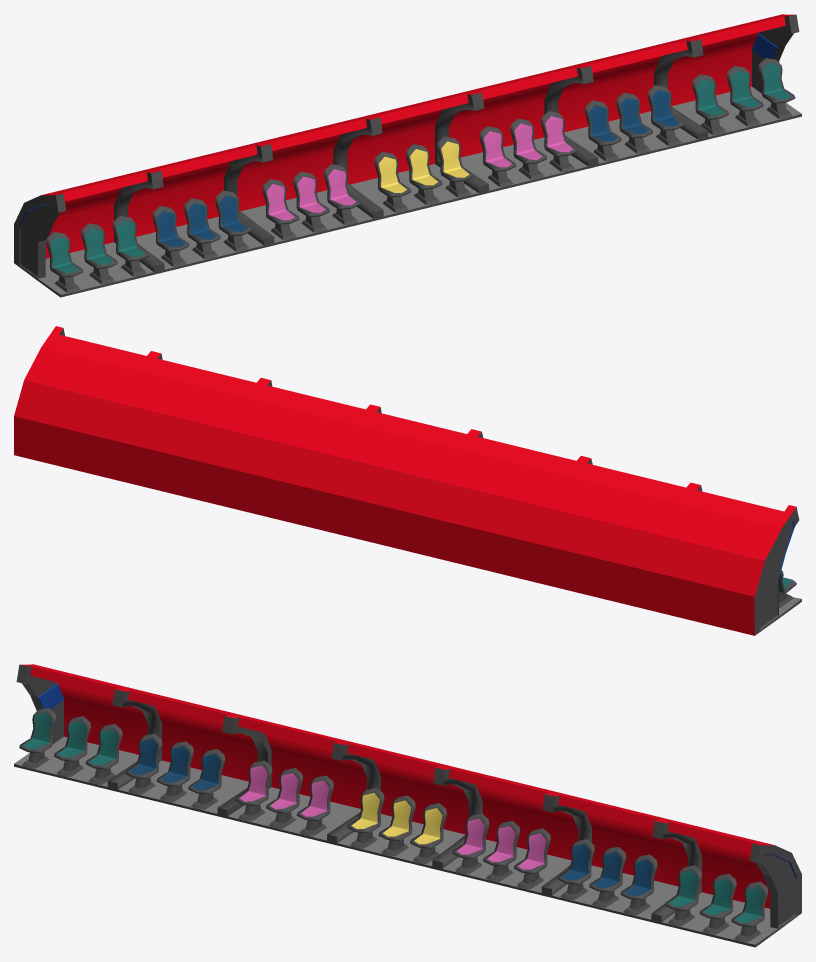
File: SM_Chair_Canopy.fbx
3 renders of one model, top to bottom at view 1: azimuth 30°, elevation 25°; view 2: azimuth 150°, elevation 25°; view 3: azimuth 330°, elevation 25°, orthographic.
Visible parts, largest first — view 1: SM_Chair_Canopy; view 2: SM_Chair_Canopy; view 3: SM_Chair_Canopy.
Boxes of the visible parts, x1,y1,x2,y2 form: SM_Chair_Canopy: [14, 14, 801, 297]; SM_Chair_Canopy: [14, 326, 801, 635]; SM_Chair_Canopy: [14, 664, 801, 947].
Size of the model in its own units: 2002 by 254 by 222.
